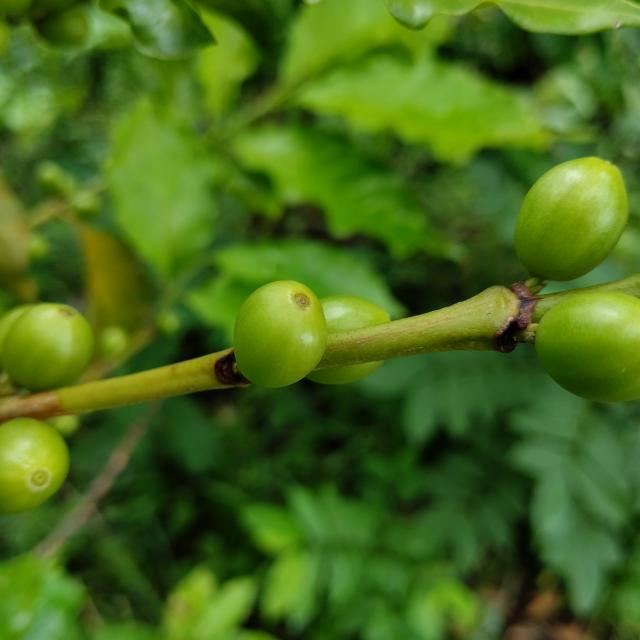green: (515, 156, 630, 281), (536, 292, 640, 403), (234, 281, 328, 388), (0, 303, 94, 391), (0, 303, 94, 391), (0, 418, 68, 514), (320, 295, 390, 333), (306, 362, 382, 385)
